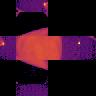earth: (15, 27, 62, 70)
